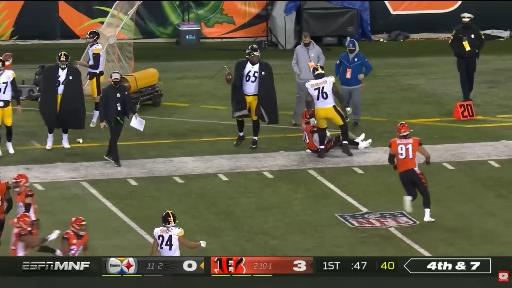Helmet: (12, 173, 29, 191), (15, 213, 31, 230), (71, 217, 86, 234), (162, 211, 177, 226), (397, 122, 411, 136), (57, 52, 70, 67), (86, 30, 99, 44), (246, 45, 260, 57), (302, 109, 314, 122), (312, 65, 325, 75), (0, 58, 6, 73)
Jersey: (389, 138, 422, 172), (306, 76, 335, 107), (154, 227, 183, 255), (62, 230, 88, 255), (17, 189, 37, 220), (10, 228, 29, 256), (243, 62, 259, 95), (302, 122, 319, 150), (88, 43, 104, 72), (0, 71, 15, 101), (0, 181, 10, 215), (57, 68, 67, 94)
Player: (389, 122, 434, 222), (306, 65, 353, 158), (77, 30, 104, 127), (151, 211, 206, 255), (11, 214, 61, 256), (0, 58, 21, 153), (12, 174, 38, 235), (61, 217, 88, 255), (0, 181, 13, 246), (302, 110, 319, 153)
